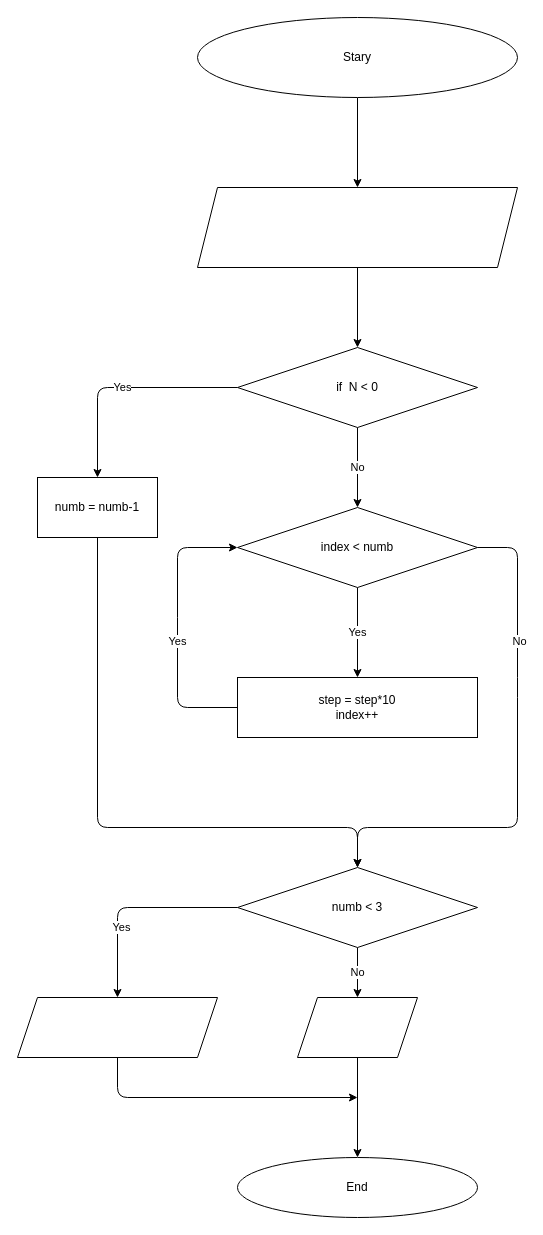
This 543x1235 diagram has some shape labels left out. The box of each missing label's shape, as (x1, y1, x2, y2) in pixels:
resalt: (296, 996, 418, 1058)
string n int numb Int N int index int step: (196, 186, 518, 268)
Такого числа не существует: (16, 996, 218, 1058)
